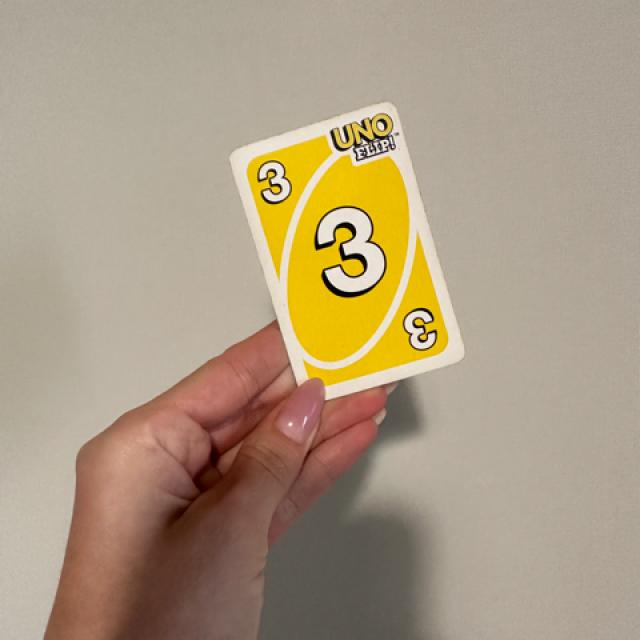lyellow-3: (252, 149, 302, 218)
